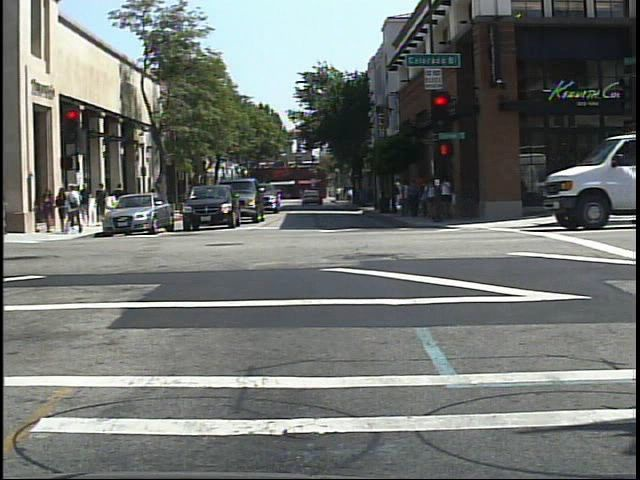person: (63, 181, 86, 239)
